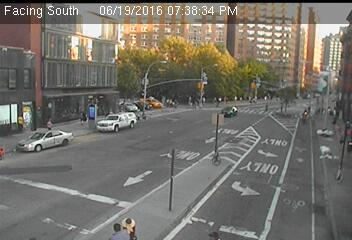neg: (238, 155, 264, 189), (169, 128, 193, 159)
pos: (42, 115, 56, 134)
